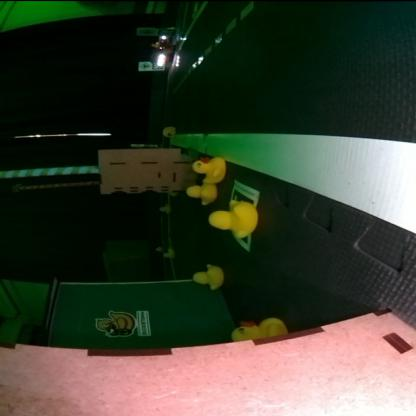Duckie: (208, 203, 254, 237), (230, 316, 288, 342), (192, 156, 224, 182), (192, 264, 222, 288), (186, 182, 212, 204), (162, 126, 176, 136)
Duckiebot: (152, 35, 174, 66)
QR code: (226, 180, 258, 250)
